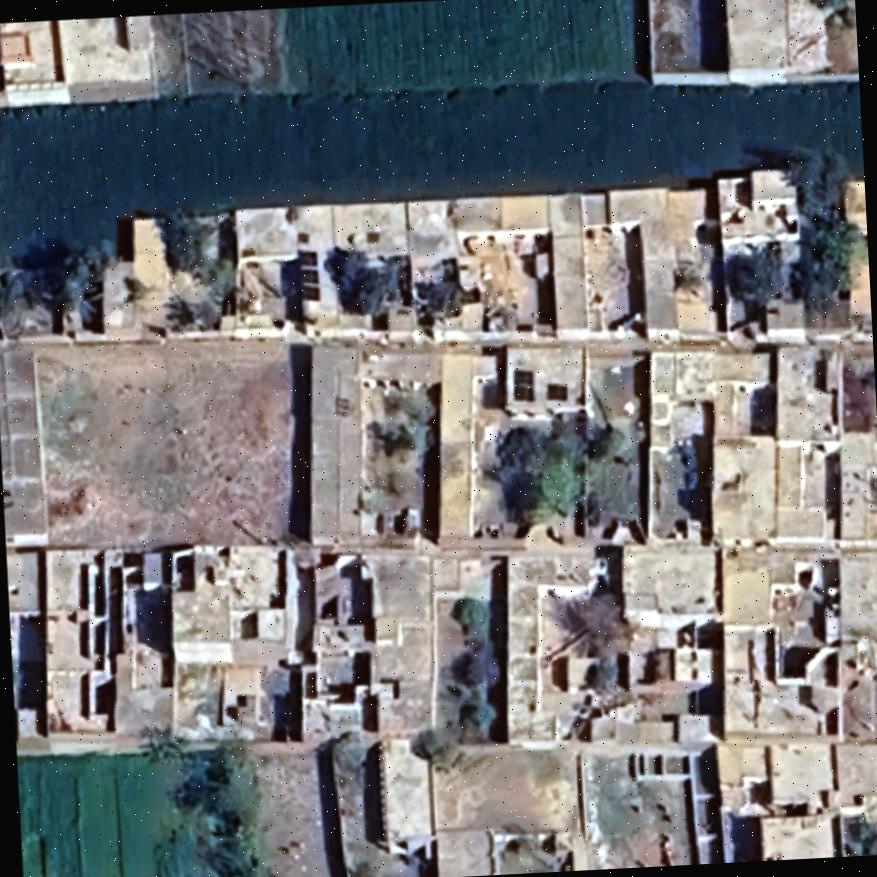Solarpanel: (507, 364, 538, 406), (542, 378, 572, 405)
